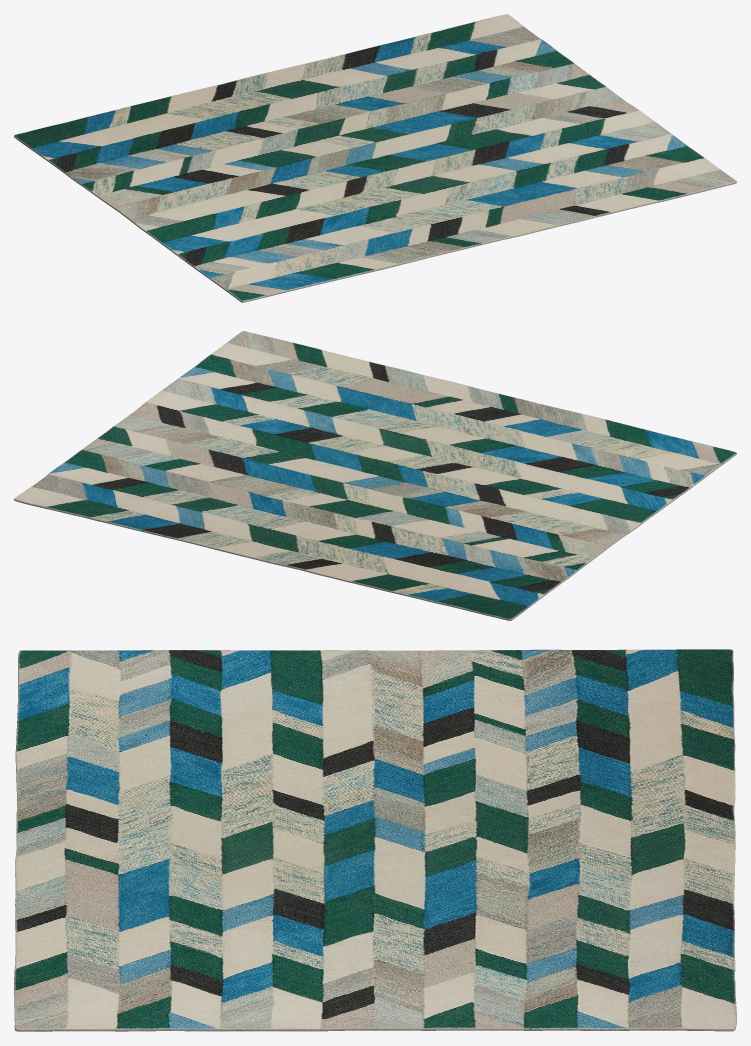
Rendered from abo-B07B4Z6MND.glb.
The picture shows the model from 3 angles, top to bottom: view 1: azimuth 30°, elevation 25°; view 2: azimuth 150°, elevation 25°; view 3: azimuth 270°, elevation 25°; orthographic projection. The views are drawn at different scales.
Size of the model in its own units: 3.04 by 0.01 by 2.44.
Materials: 1 (1 with a texture image).
